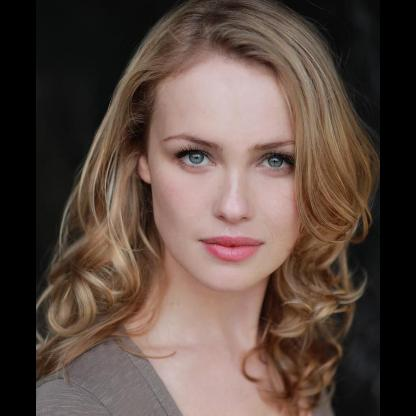Female: (138, 48, 306, 290)
